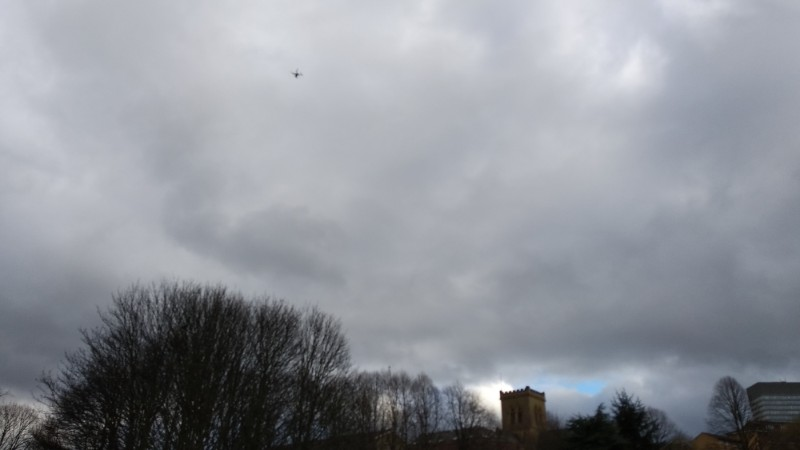drone: (290, 68, 303, 79)
